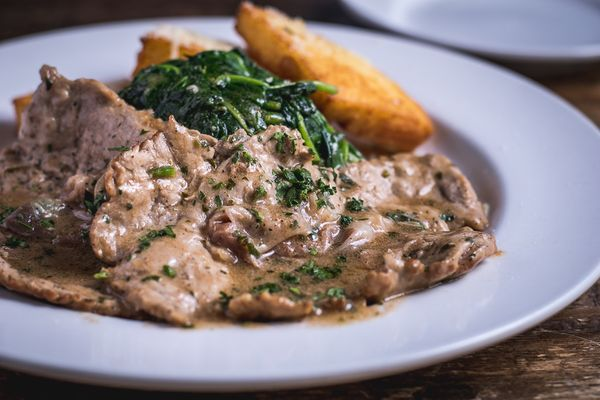curry: (10, 0, 599, 394)
sandwich: (0, 26, 502, 328)
